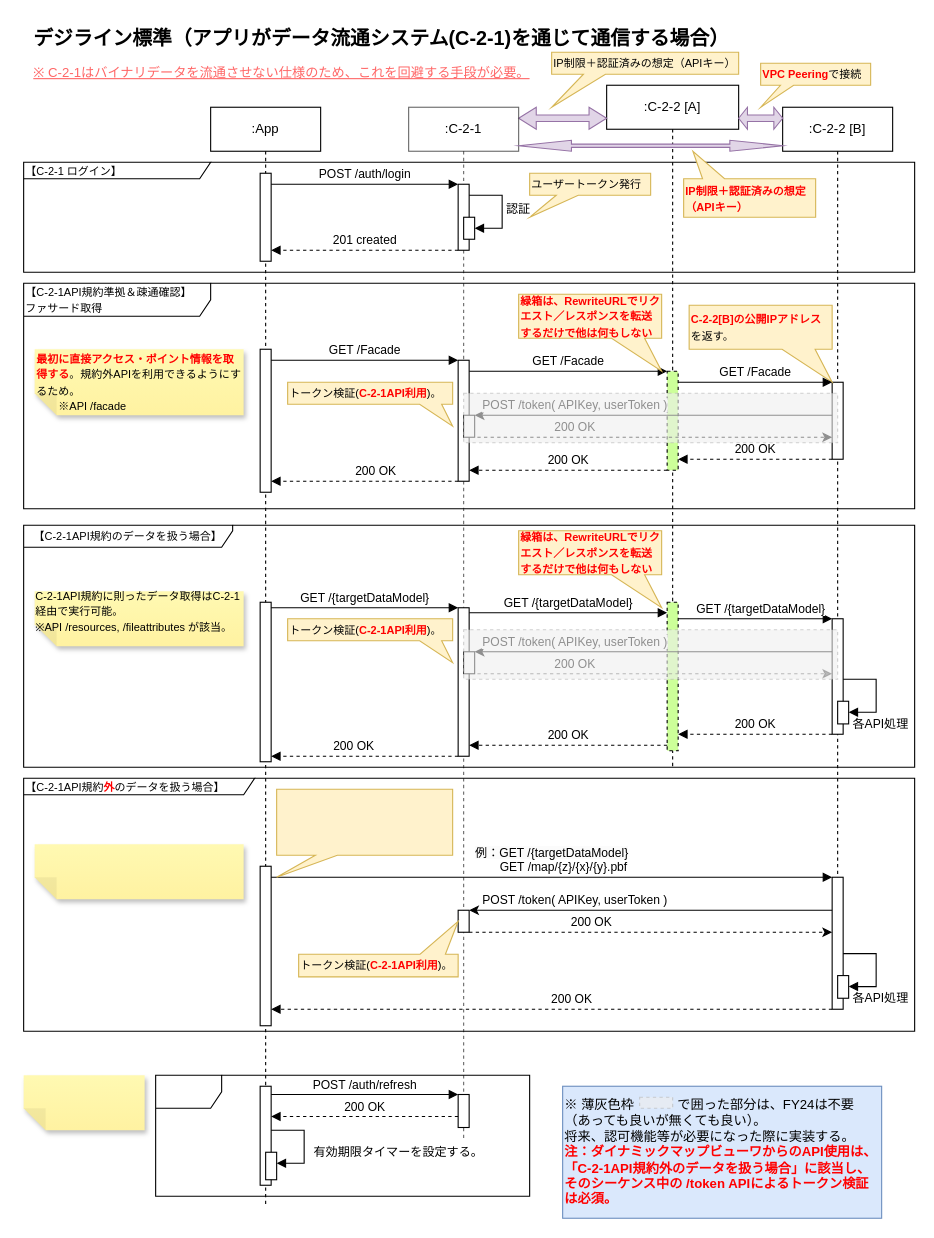
The diagram is 934 pixels wide and 1238 high, and some of its shapes have lost their labels. Each missing label, with the centre of its shape:
"API /resources, /fileattributes 以外のAPIを利用する場合。" belongs at pixel 140 872.
"loop" belongs at pixel 342 1135.
"現行C-2-1API規約外のデータを扱うAPIの場合は直接アクセス・ポイントに対してリクエストする。 （バイナリデータ取得、等）" belongs at pixel 364 832.
"認証トークン更新" belongs at pixel 85 1103.
